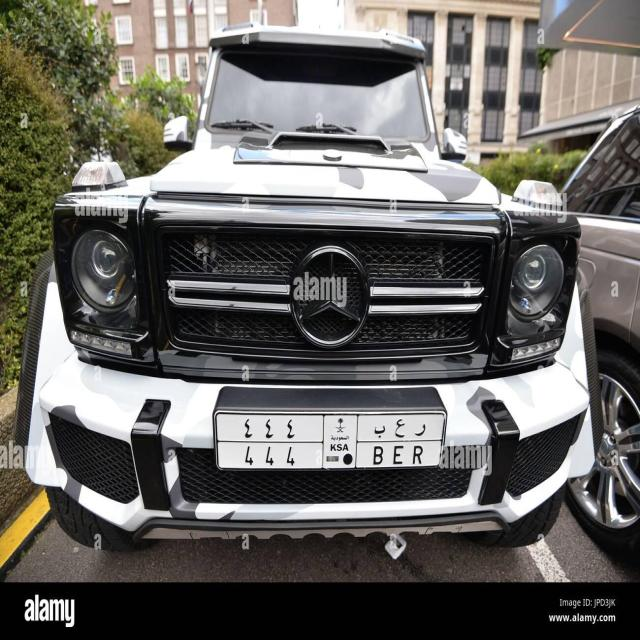license_plate: (199, 398, 453, 477)
